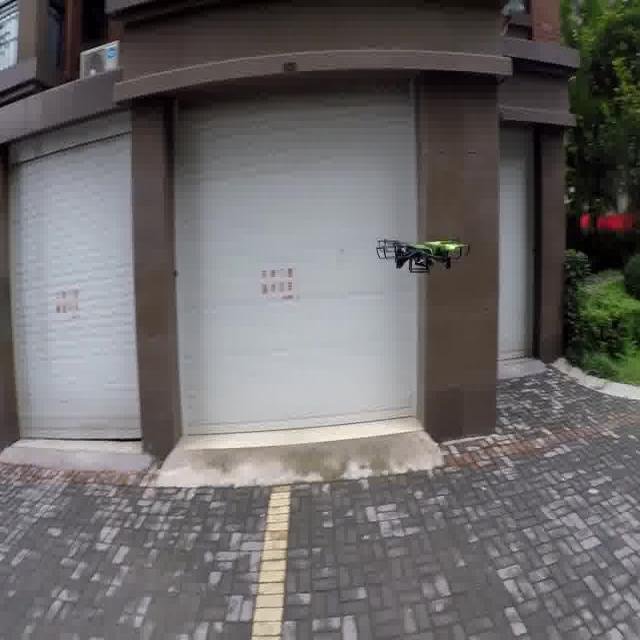drone: (368, 227, 472, 284)
